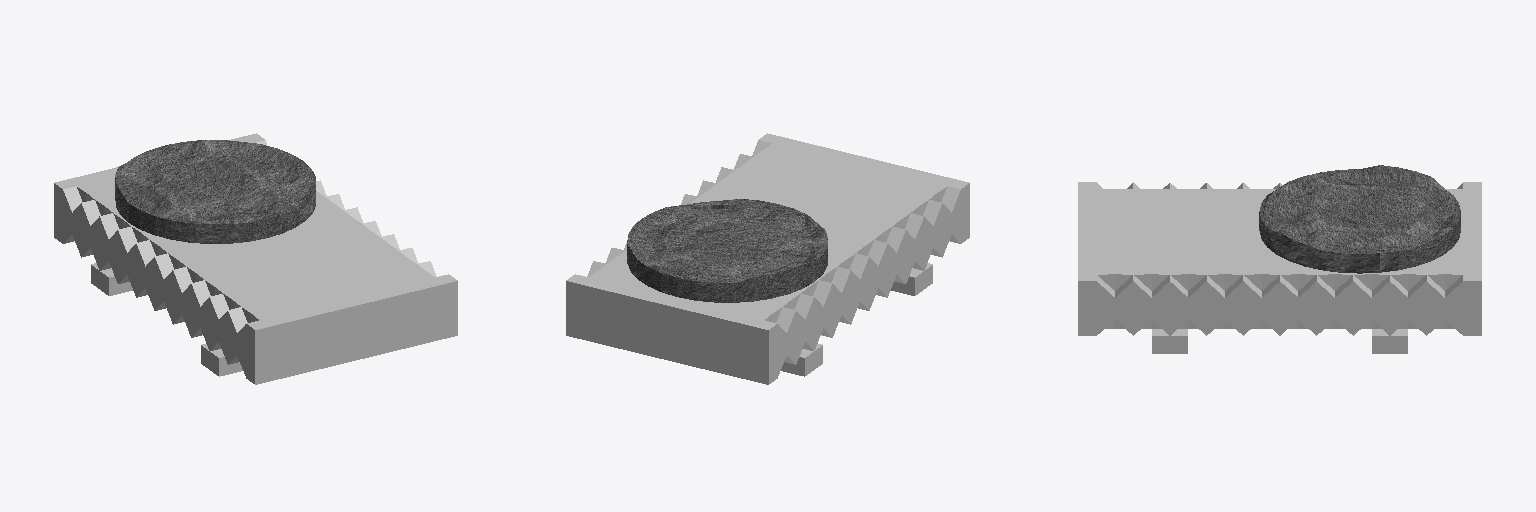
3 views of the same model, side by side, from view 1: azimuth 30°, elevation 25°; view 2: azimuth 150°, elevation 25°; view 3: azimuth 270°, elevation 25° (orthographic).
Parts seen in each view (by area): view 1: Cube.002, Cube.001; view 2: Cube.002, Cube.001; view 3: Cube.002, Cube.001.
Part boxes in pixels (left/top/right/bottom): Cube.002: left=54, top=133, right=457, bottom=384; Cube.001: left=115, top=140, right=315, bottom=243; Cube.002: left=566, top=133, right=969, bottom=384; Cube.001: left=627, top=199, right=827, bottom=302; Cube.002: left=1078, top=182, right=1481, bottom=353; Cube.001: left=1259, top=165, right=1460, bottom=273.
Size of the model in its own units: 1.57 by 0.7273 by 2.7.
Materials: 2 (1 with a texture image).